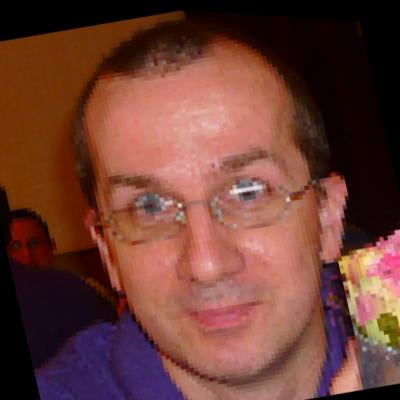surprise: (67, 45, 348, 397)
